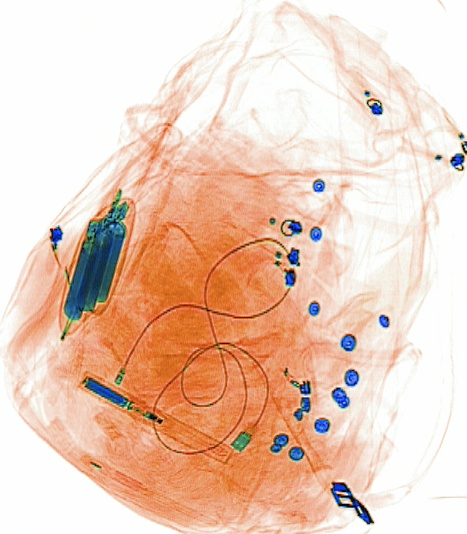powerbank: (58, 196, 136, 335)
